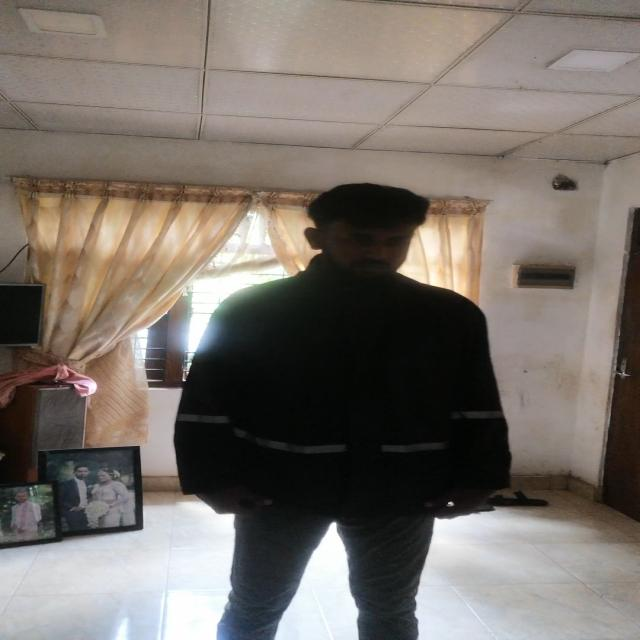Jacket_Wearer: (176, 260, 522, 529)
Person: (174, 179, 518, 640)
